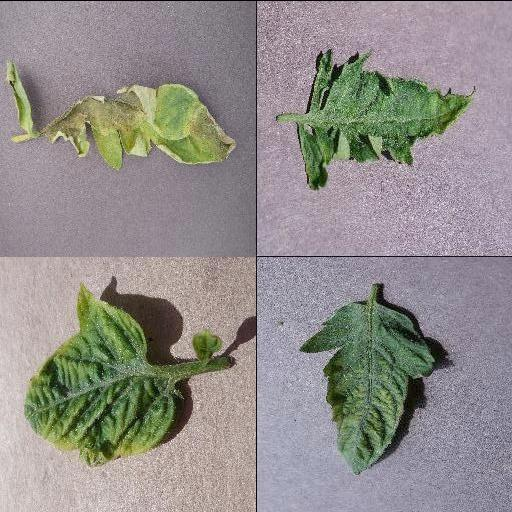Late Blight: (41, 82, 237, 170), (3, 61, 35, 129)
Mosaic Virus: (294, 47, 478, 193), (296, 299, 435, 474)
Yellow Leaf Curl Virus: (24, 281, 174, 465)
